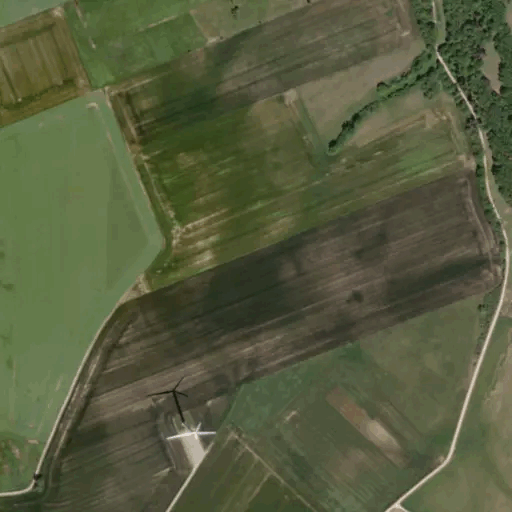wt: (144, 377, 222, 446)
